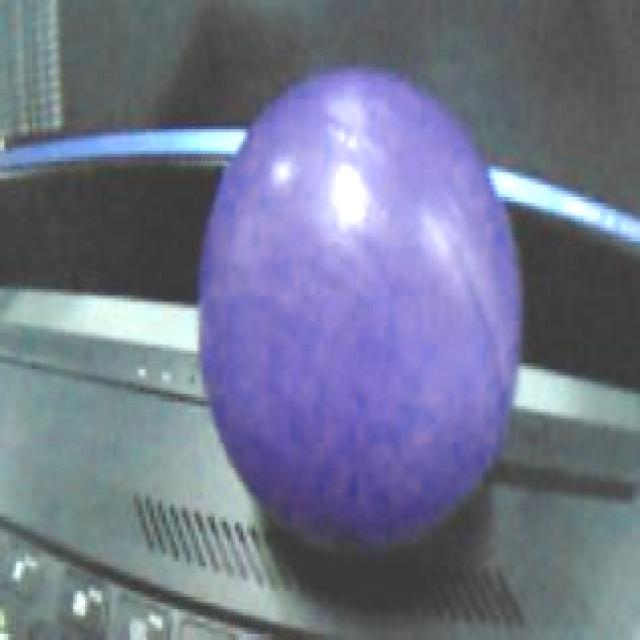BallPurple: (200, 65, 518, 554)
